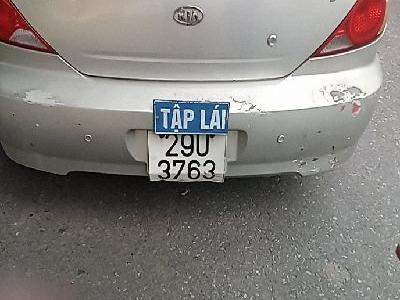car: (146, 130, 229, 183)
